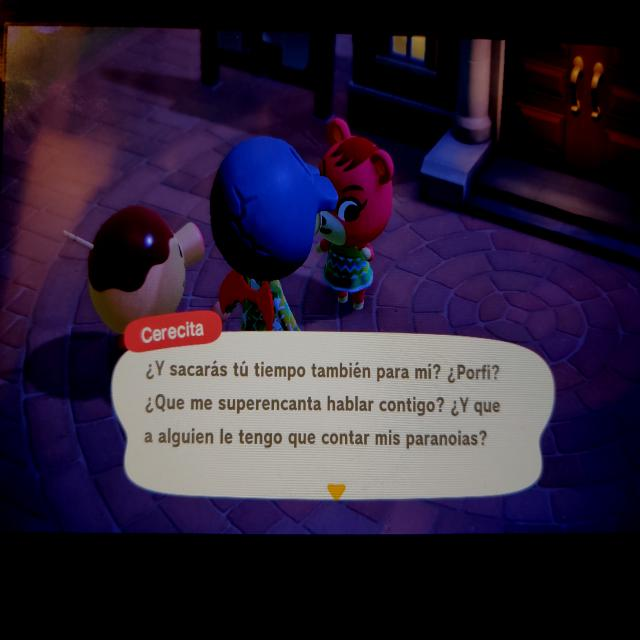text_bubble: (108, 307, 561, 507)
